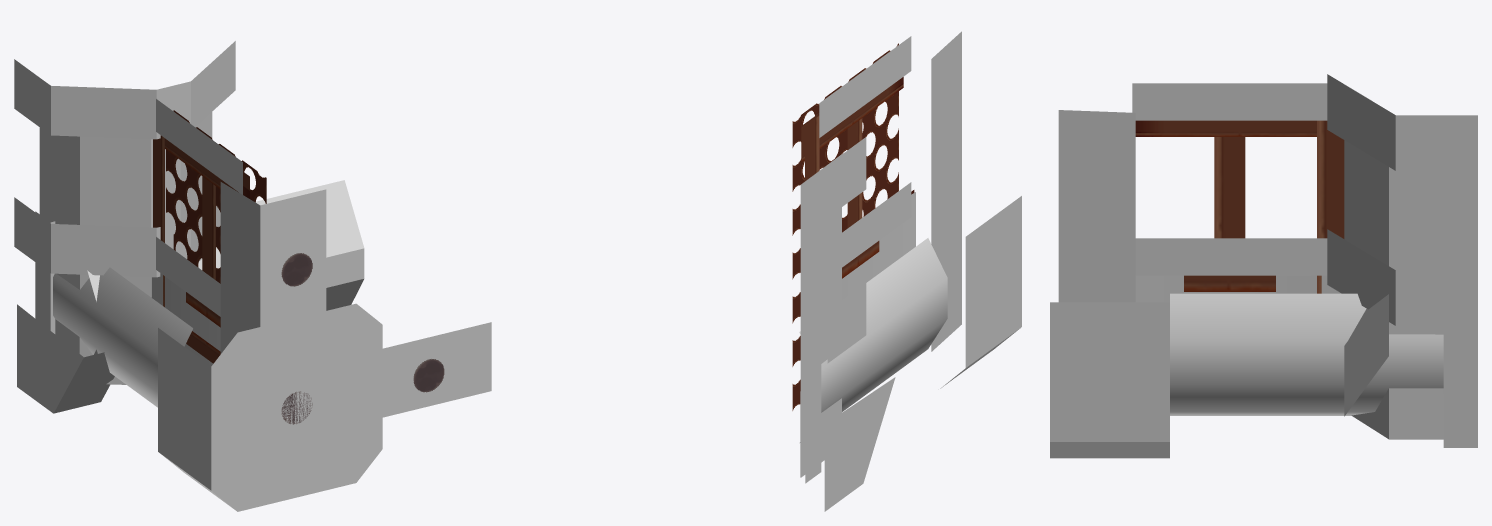
File: fence_high.glb
The picture shows the model from 3 angles, left to right: view 1: azimuth 30°, elevation 25°; view 2: azimuth 150°, elevation 25°; view 3: azimuth 270°, elevation 25°; orthographic projection. The views are drawn at different scales.
Visible parts, largest first — view 1: rsrc.world.tileset.clockworks_fire.fence.fence_high-Variant[ (×17); view 2: rsrc.world.tileset.clockworks_fire.fence.fence_high-Variant[ (×12); view 3: rsrc.world.tileset.clockworks_fire.fence.fence_high-Variant[ (×12).
Part boxes in pixels (left/top/right/bottom): rsrc.world.tileset.clockworks_fire.fence.fence_high-Variant[ (×17): left=14, top=41, right=491, bottom=511; rsrc.world.tileset.clockworks_fire.fence.fence_high-Variant[ (×12): left=792, top=31, right=1021, bottom=511; rsrc.world.tileset.clockworks_fire.fence.fence_high-Variant[ (×12): left=1050, top=74, right=1477, bottom=458.
Bounding box in the file's own units: 2.2 × 2.38 × 2.5.
Materials: 4 (3 with a texture image).
